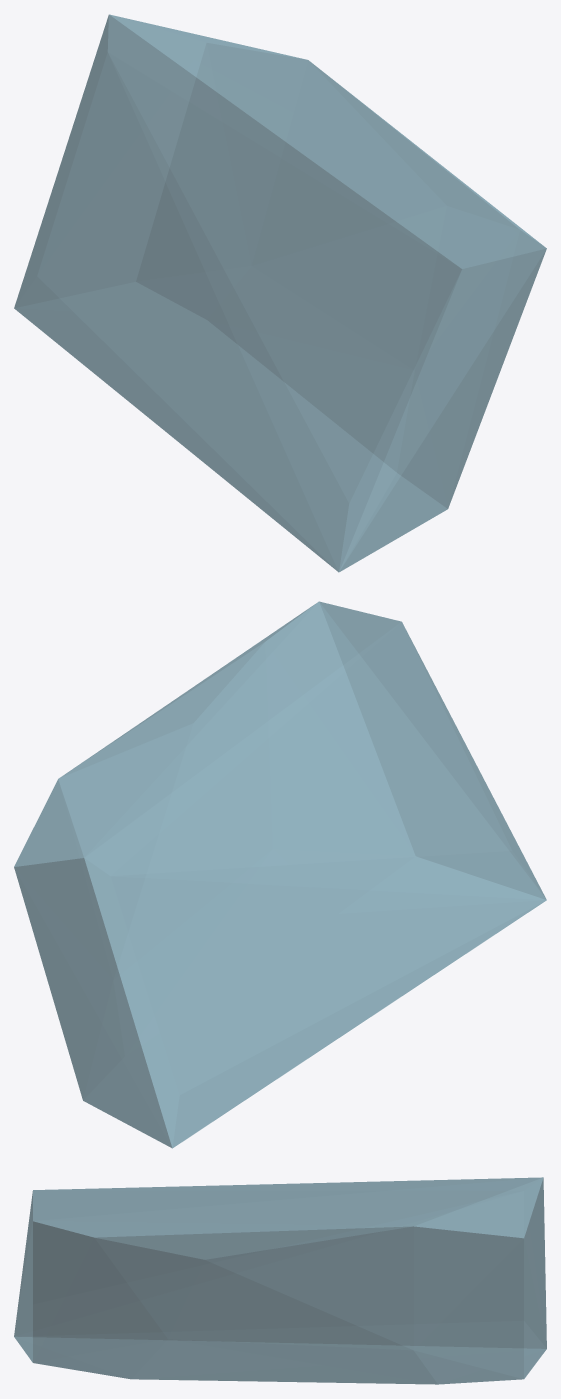
3 views of the same model, one above another, from view 1: azimuth 30°, elevation 25°; view 2: azimuth 150°, elevation 25°; view 3: azimuth 270°, elevation 25° (orthographic). The views are drawn at different scales.
Visible parts, largest first — view 1: Shape_IndexedFaceSet.052_Shape_IndexedFaceSet.18028; view 2: Shape_IndexedFaceSet.052_Shape_IndexedFaceSet.18028; view 3: Shape_IndexedFaceSet.052_Shape_IndexedFaceSet.18028.
Boxes of the visible parts, bbox=[...] form: Shape_IndexedFaceSet.052_Shape_IndexedFaceSet.18028: bbox=[14, 14, 546, 572]; Shape_IndexedFaceSet.052_Shape_IndexedFaceSet.18028: bbox=[14, 601, 546, 1148]; Shape_IndexedFaceSet.052_Shape_IndexedFaceSet.18028: bbox=[14, 1177, 546, 1384].
Size of the model in its own units: 0.1262 by 0.1403 by 0.3298.
